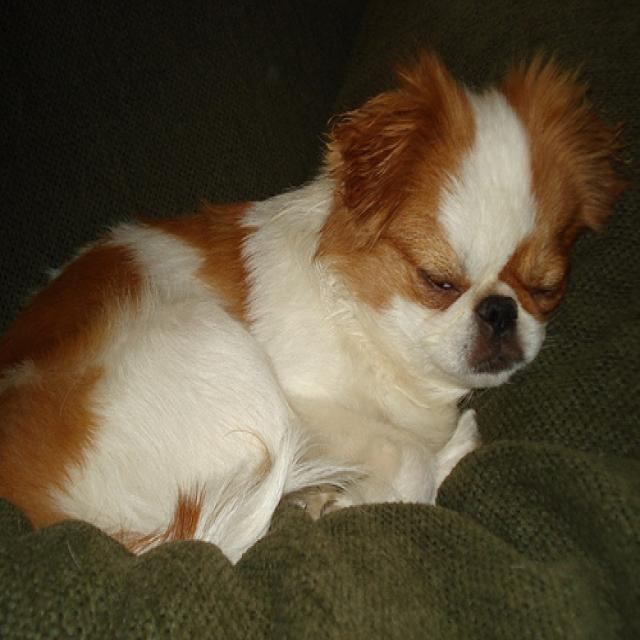dog-japanese_chin: (1, 43, 631, 573)
